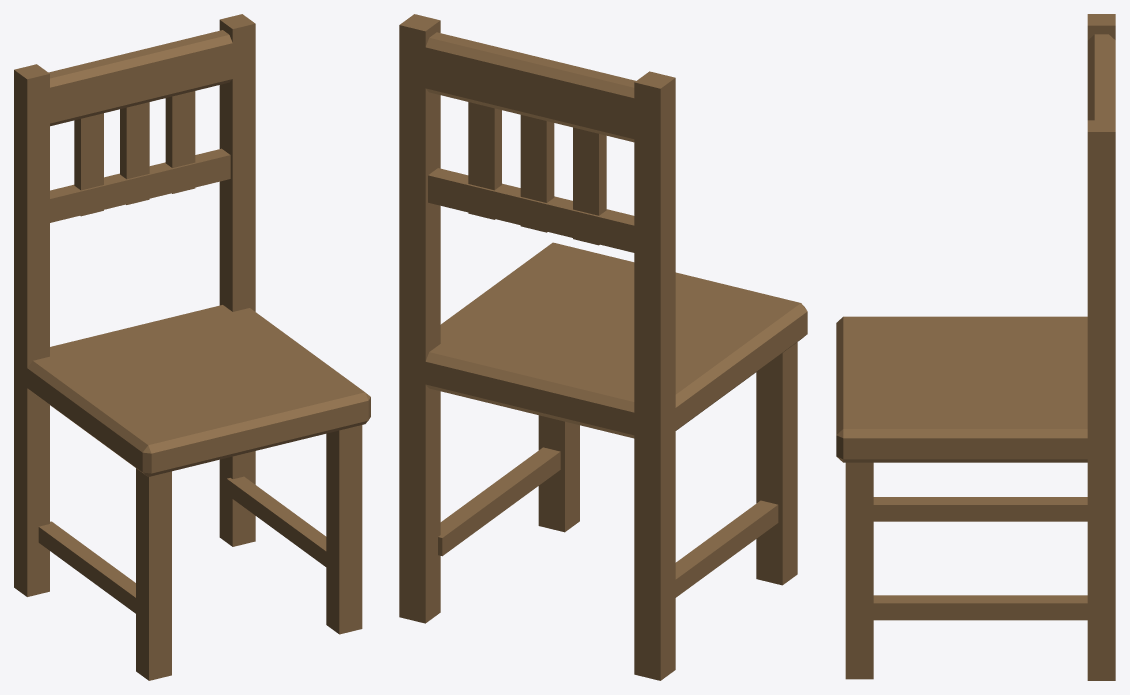
The model's file is chair.glb.
3 views of the same model, side by side, from view 1: azimuth 30°, elevation 25°; view 2: azimuth 150°, elevation 25°; view 3: azimuth 270°, elevation 25° (orthographic). The views are drawn at different scales.
Parts seen in each view (by area): view 1: chair-m; view 2: chair-m; view 3: chair-m.
Part boxes in pixels (left/top/right/bottom): chair-m: left=14, top=14, right=370, bottom=680; chair-m: left=399, top=14, right=807, bottom=680; chair-m: left=836, top=14, right=1115, bottom=680.
Bounding box in the file's own units: 0.6 × 1.3 × 0.6.
